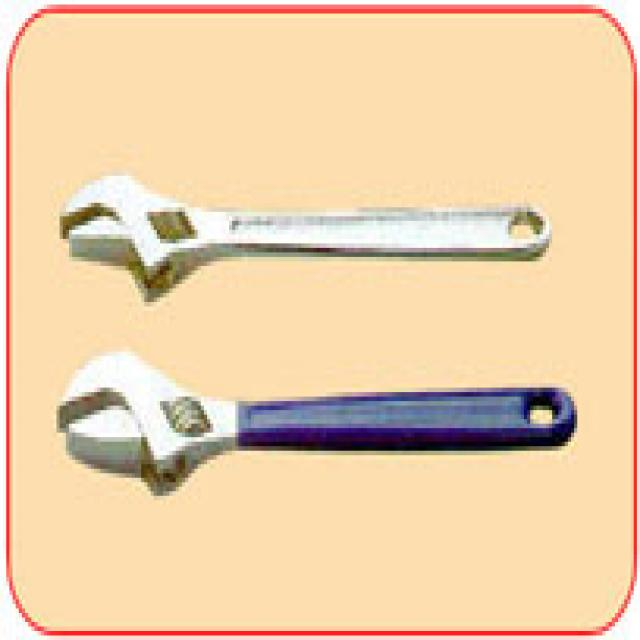Wrench: (53, 166, 561, 299)
